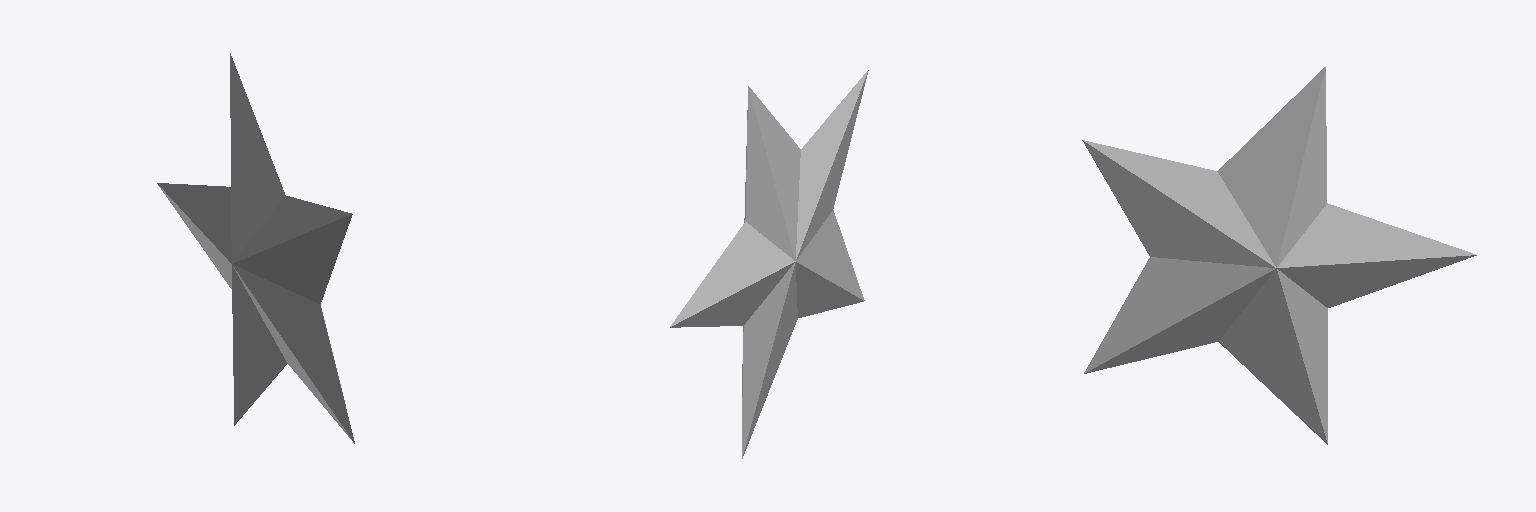
The model's file is estrella.obj.
The picture shows the model from 3 angles: view 1: azimuth 30°, elevation 25°; view 2: azimuth 150°, elevation 25°; view 3: azimuth 270°, elevation 25°; orthographic projection.
Parts seen in each view (by area): view 1: estrella; view 2: estrella; view 3: estrella.
Boxes of the visible parts, x1=… form: estrella: x1=157, y1=53, x2=354, y2=443; estrella: x1=670, y1=70, x2=868, y2=458; estrella: x1=1082, y1=67, x2=1476, y2=444.
Bounding box in the file's own units: 0.3373 × 2.33 × 2.22.